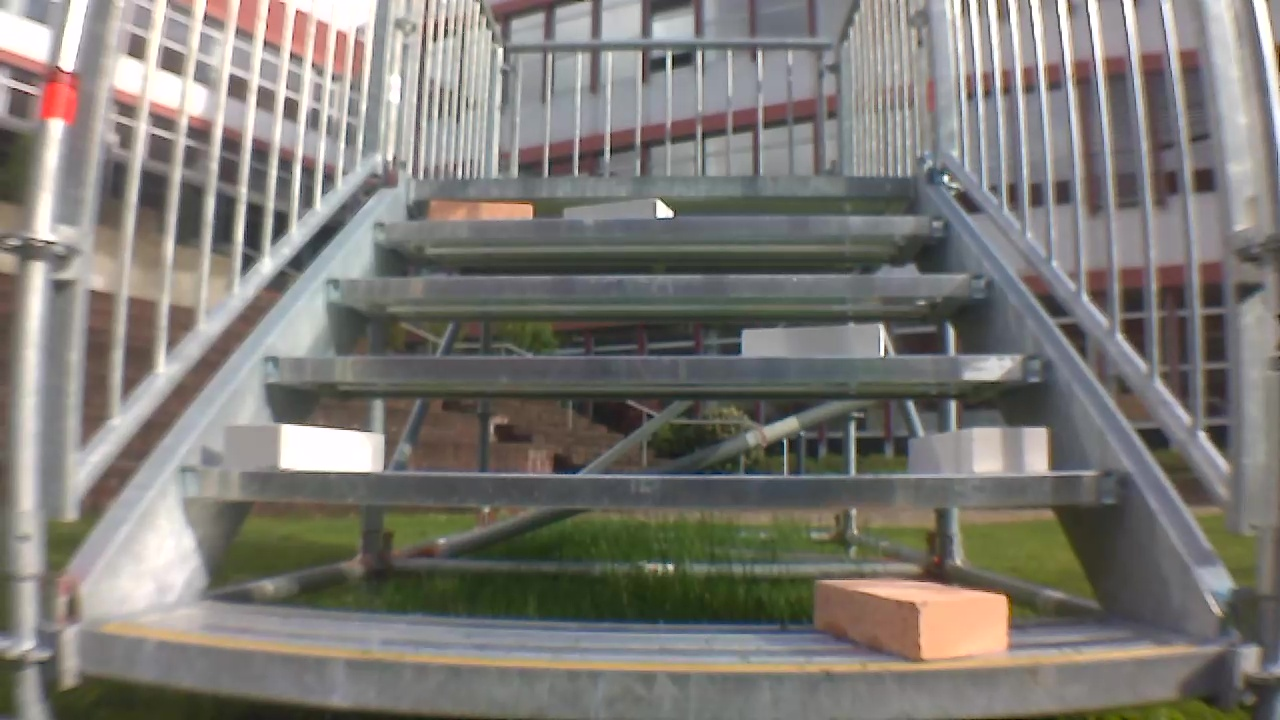brick: (816, 578, 1007, 660), (225, 422, 384, 471), (908, 426, 1046, 475), (742, 325, 882, 358), (430, 201, 533, 219), (564, 201, 671, 218)
edge: (82, 635, 1224, 718), (181, 466, 1125, 509), (264, 356, 1050, 382), (323, 275, 990, 299), (377, 215, 949, 240), (408, 176, 909, 196)
stairs: (7, 3, 1277, 715)
steps: (70, 169, 1239, 717)
